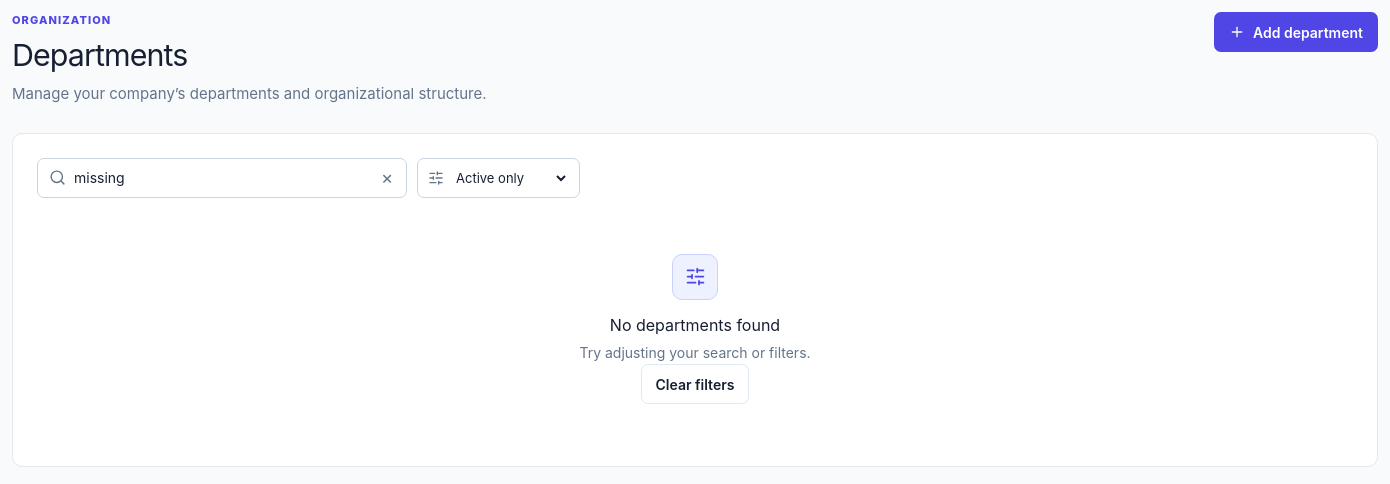
department management › shows the empty search state and can clear filters
The image size is (1390, 484).
expect the heading "No departments found" is shown: met, box [610,315,780,336]
Click the button "Clear filters" at x=695, y=384, box [640,364,749,404]
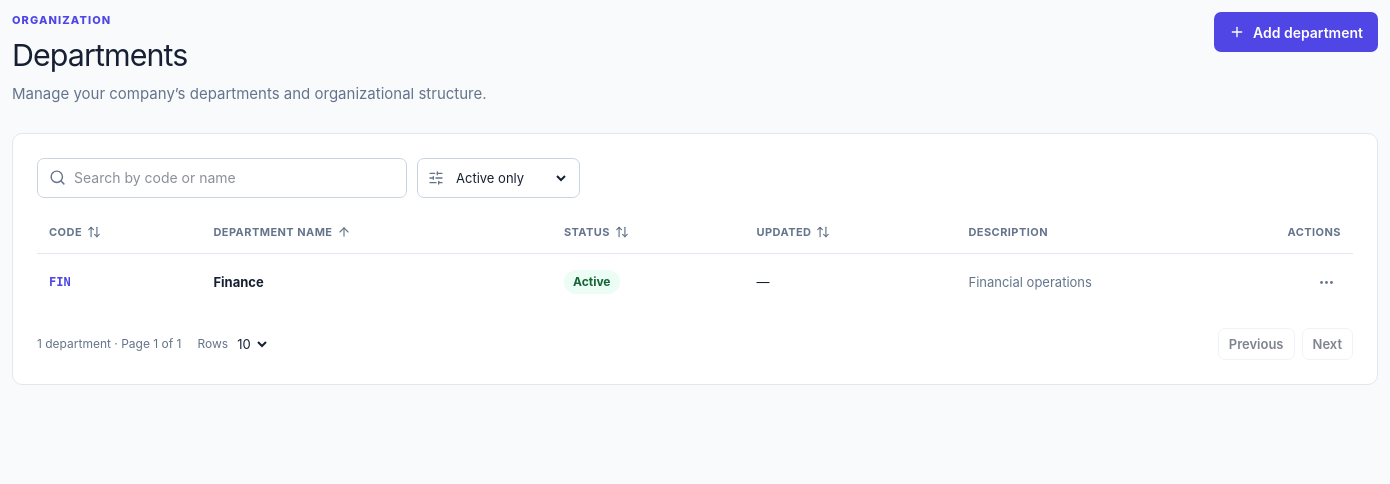
expect the field named "Search departments" is empty: met, box [74,159,406,197]
